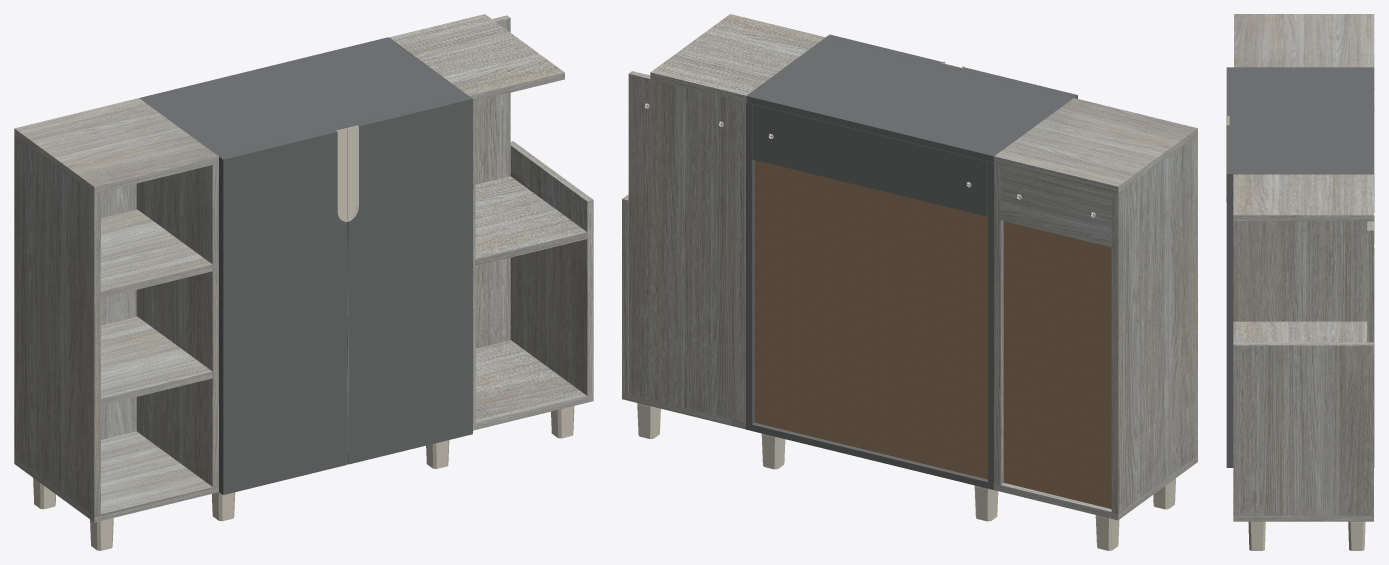
3 views of the same model, side by side, from view 1: azimuth 30°, elevation 25°; view 2: azimuth 150°, elevation 25°; view 3: azimuth 270°, elevation 25° (orthographic). The views are drawn at different scales.
Parts seen in each view (by area): view 1: group_0.467, Cube.005, Cube.007, group_0.115; view 2: Cube.005, group_0.369, Cube.007, group_0.467, group_0.115; view 3: Cube.007, group_0.467, Cube.005, group_0.115.
Part boxes in pixels (box(x1,y1,x2,y2)): group_0.467: box(139, 37, 472, 494); Cube.005: box(14, 98, 218, 522); Cube.007: box(389, 14, 593, 430); group_0.115: box(33, 125, 574, 550); Cube.005: box(994, 98, 1197, 520); group_0.369: box(755, 160, 987, 479); Cube.007: box(622, 14, 825, 429); group_0.467: box(745, 34, 1077, 489); group_0.115: box(637, 61, 1175, 550); Cube.007: box(1233, 174, 1373, 521); group_0.467: box(1226, 67, 1374, 467); Cube.005: box(1234, 14, 1374, 67); group_0.115: box(1226, 116, 1365, 550).
Bounding box in the file's own units: 1.4 × 1 × 0.4114.
6 materials, 3 textured.
